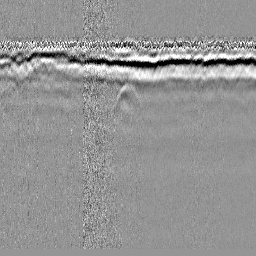cavity: (111, 82, 140, 111)
